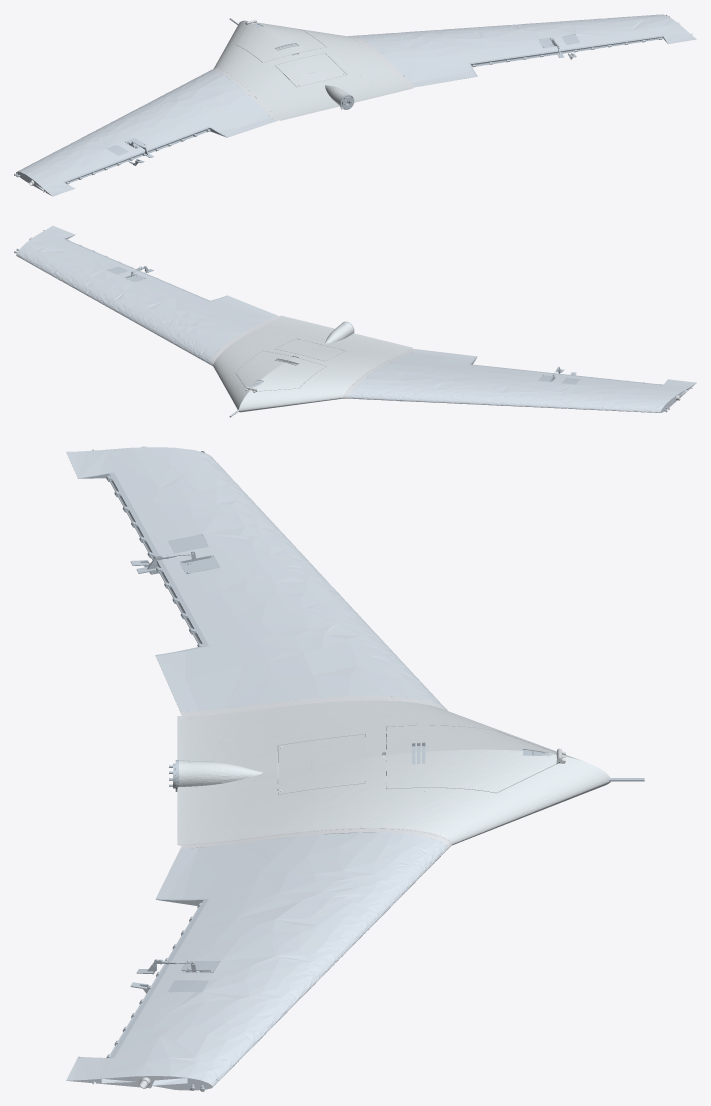
File: bluebird_inside.glb
The picture shows the model from 3 angles, top to bottom: view 1: azimuth 30°, elevation 25°; view 2: azimuth 150°, elevation 25°; view 3: azimuth 270°, elevation 25°; orthographic projection. The views are drawn at different scales.
Visible parts, largest first — view 1: x_foam__foam_core_L, x_foam__foam_core_R, x_shell__hatch_skin, x_shell__shell_L_D, x_shell__shell_R_D, x_shell__avionics_cover, x_shell__shell_L_B, x_shell__shell_R_B, x_shell__shell_L_C, x_shell__shell_R_C, x_shell__shell_L_A, x_shell__shell_pod (+6 smaller); view 2: x_foam__foam_core_L, x_foam__foam_core_R, x_shell__hatch_skin, x_shell__shell_L_C, x_shell__shell_L_A, x_shell__shell_L_D, x_shell__shell_R_D, x_shell__shell_R_C, x_shell__avionics_cover, x_shell__shell_L_B, x_shell__shell_R_B, x_shell__shell_R_A (+3 smaller); view 3: x_foam__foam_core_R, x_foam__foam_core_L, x_shell__hatch_skin, x_shell__shell_R_C, x_shell__shell_R_D, x_shell__shell_L_D, x_shell__avionics_cover, x_shell__shell_R_A, x_shell__shell_R_B, x_shell__shell_L_B, x_shell__shell_L_C, x_shell__shell_pod (+2 smaller).
Part boxes in pixels (box(x1,y1,x2,y2)): x_foam__foam_core_L: box(16, 70, 275, 196); x_foam__foam_core_R: box(353, 14, 696, 86); x_shell__hatch_skin: box(235, 22, 326, 62); x_shell__shell_L_D: box(237, 69, 311, 120); x_shell__shell_R_D: box(336, 47, 410, 95); x_shell__avionics_cover: box(275, 53, 346, 86); x_shell__shell_L_B: box(263, 57, 338, 112); x_shell__shell_R_B: box(298, 49, 381, 102); x_shell__shell_L_C: box(214, 46, 265, 78); x_shell__shell_R_C: box(303, 29, 364, 52); x_shell__shell_L_A: box(226, 20, 297, 66); x_shell__shell_pod: box(314, 79, 351, 108); x_foam__foam_core_L: box(349, 349, 696, 412); x_foam__foam_core_R: box(16, 225, 275, 363); x_shell__hatch_skin: box(235, 351, 325, 391); x_shell__shell_L_C: box(294, 363, 364, 404); x_shell__shell_L_A: box(239, 355, 332, 412); x_shell__shell_L_D: box(336, 340, 410, 372); x_shell__shell_R_D: box(237, 316, 311, 346); x_shell__shell_R_C: box(213, 341, 265, 386); x_shell__avionics_cover: box(275, 339, 346, 361); x_shell__shell_L_B: box(298, 333, 381, 364); x_shell__shell_R_B: box(264, 323, 334, 355); x_shell__shell_R_A: box(225, 348, 297, 409); x_foam__foam_core_R: box(66, 832, 447, 1090); x_foam__foam_core_L: box(66, 447, 446, 711); x_shell__hatch_skin: box(386, 725, 556, 793); x_shell__shell_R_C: box(361, 791, 526, 844); x_shell__shell_R_D: box(177, 794, 360, 842); x_shell__shell_L_D: box(177, 701, 360, 750); x_shell__avionics_cover: box(278, 734, 365, 794); x_shell__shell_R_A: box(373, 755, 610, 816); x_shell__shell_R_B: box(177, 756, 373, 814); x_shell__shell_L_B: box(177, 725, 373, 767); x_shell__shell_L_C: box(361, 701, 504, 743); x_shell__shell_pod: box(177, 760, 277, 788).
Size of the model in its own units: 1.81 by 0.0668 by 0.6933.
